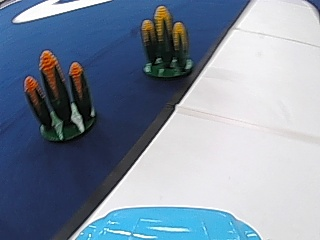corn: (26, 50, 99, 140), (139, 6, 192, 79)
